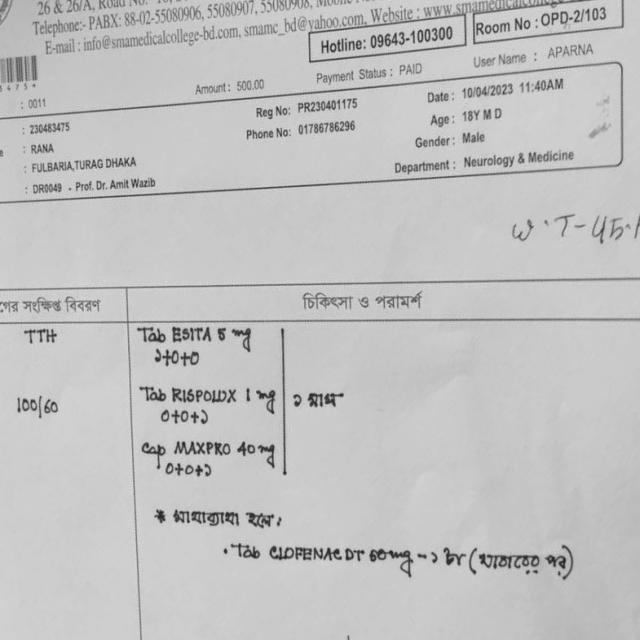medicine: (168, 381, 240, 406), (168, 434, 236, 458), (165, 321, 217, 347)
